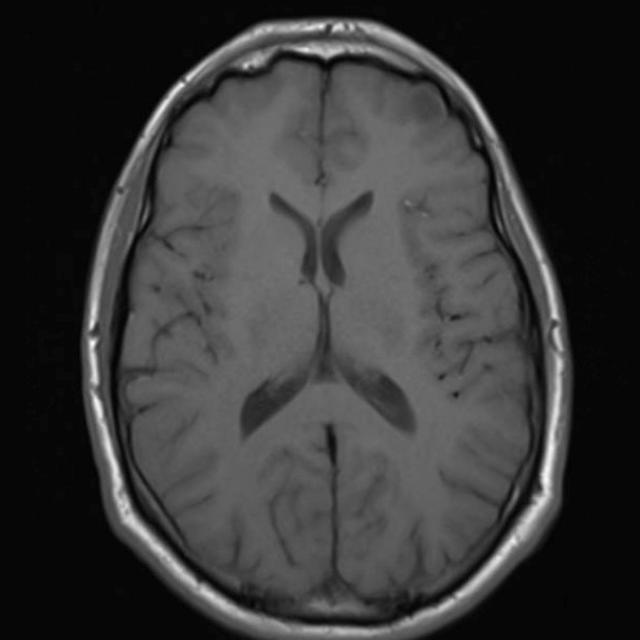No_Tumor: (82, 18, 571, 639)
